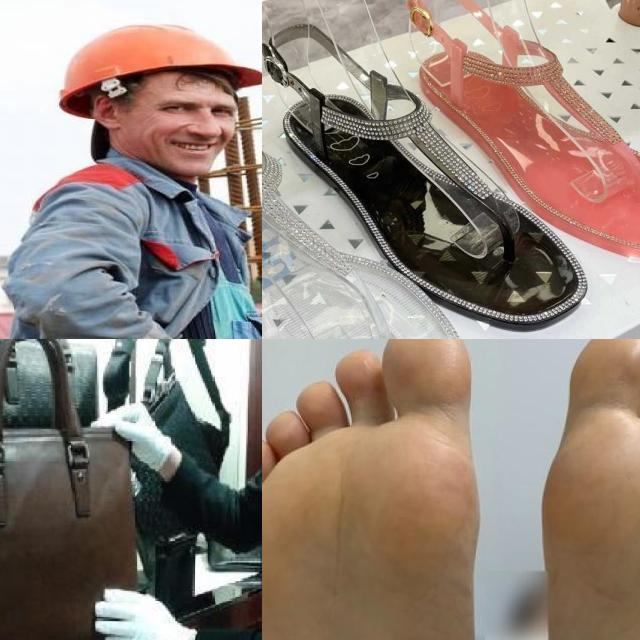Barefoots: (262, 339, 487, 640), (537, 339, 640, 640)
No_Ear-Protection: (88, 89, 130, 132)
No_Glasses: (154, 90, 243, 127)
Sandals: (262, 11, 598, 336), (383, 0, 640, 272), (262, 42, 491, 339)
face_nomask: (145, 90, 241, 170)
hand_glove: (88, 397, 174, 477), (92, 578, 186, 640)
head_helmet: (56, 20, 262, 109)
person: (7, 12, 262, 339)
